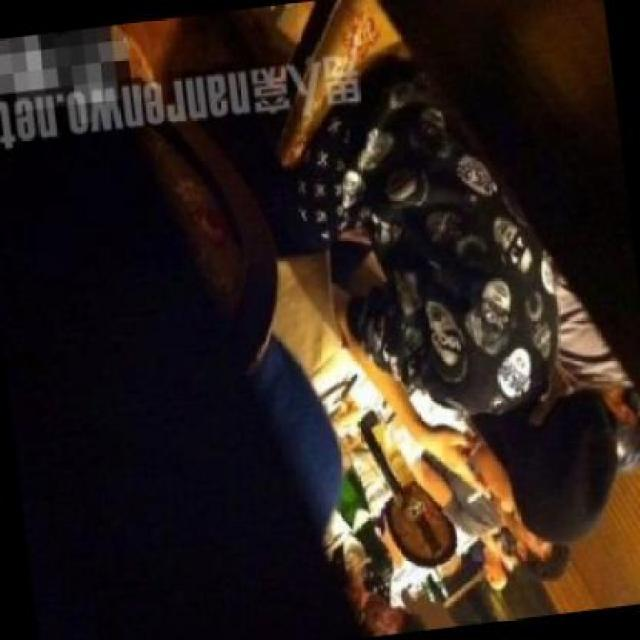cigarette: (461, 486, 481, 506)
